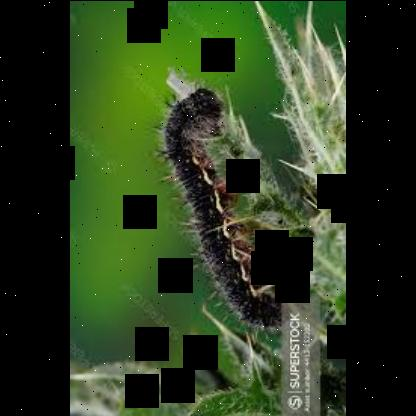oruga: (148, 81, 316, 339)
